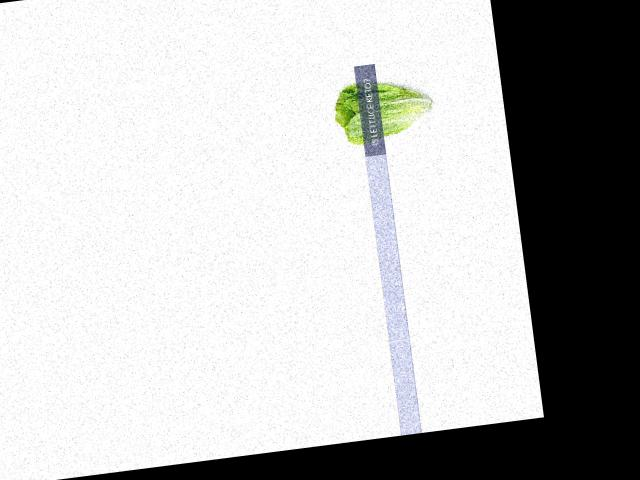lettuce: (330, 67, 445, 149)
